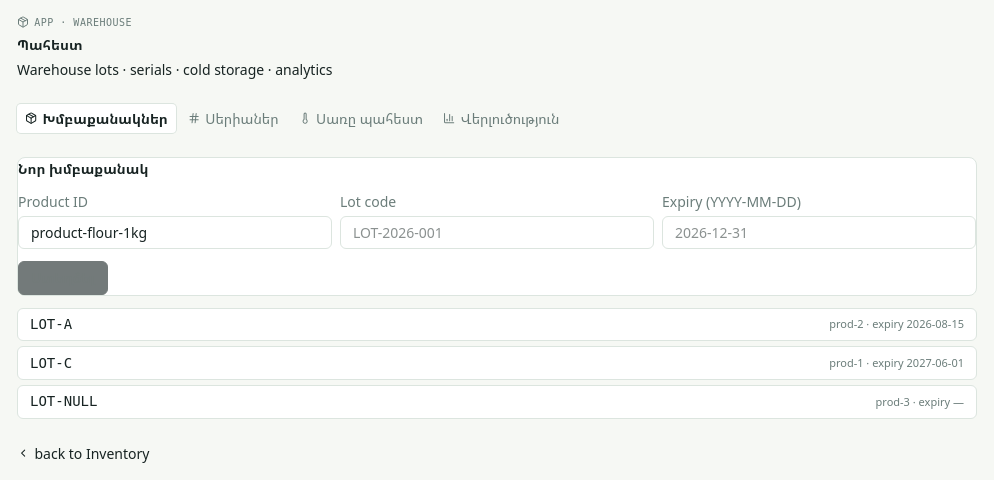
Test: Warehouse — tab strip › switches to the Serials tab on click
Click the tab with test id "warehouse-tab-serials": click(233, 118) [180, 104, 286, 132]
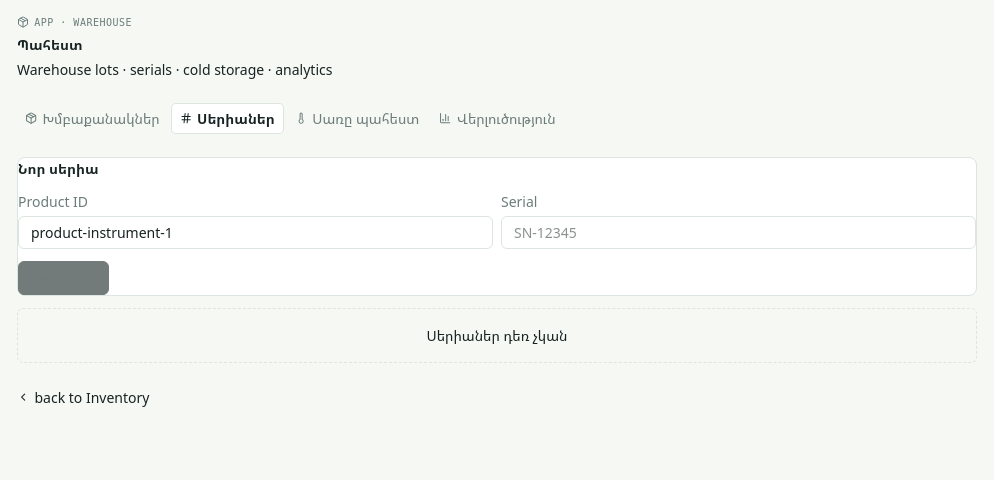
Result: the form with test id "warehouse-serial-form" is shown at [17, 156, 977, 296]
Result: the form with test id "warehouse-lot-form" is gone
